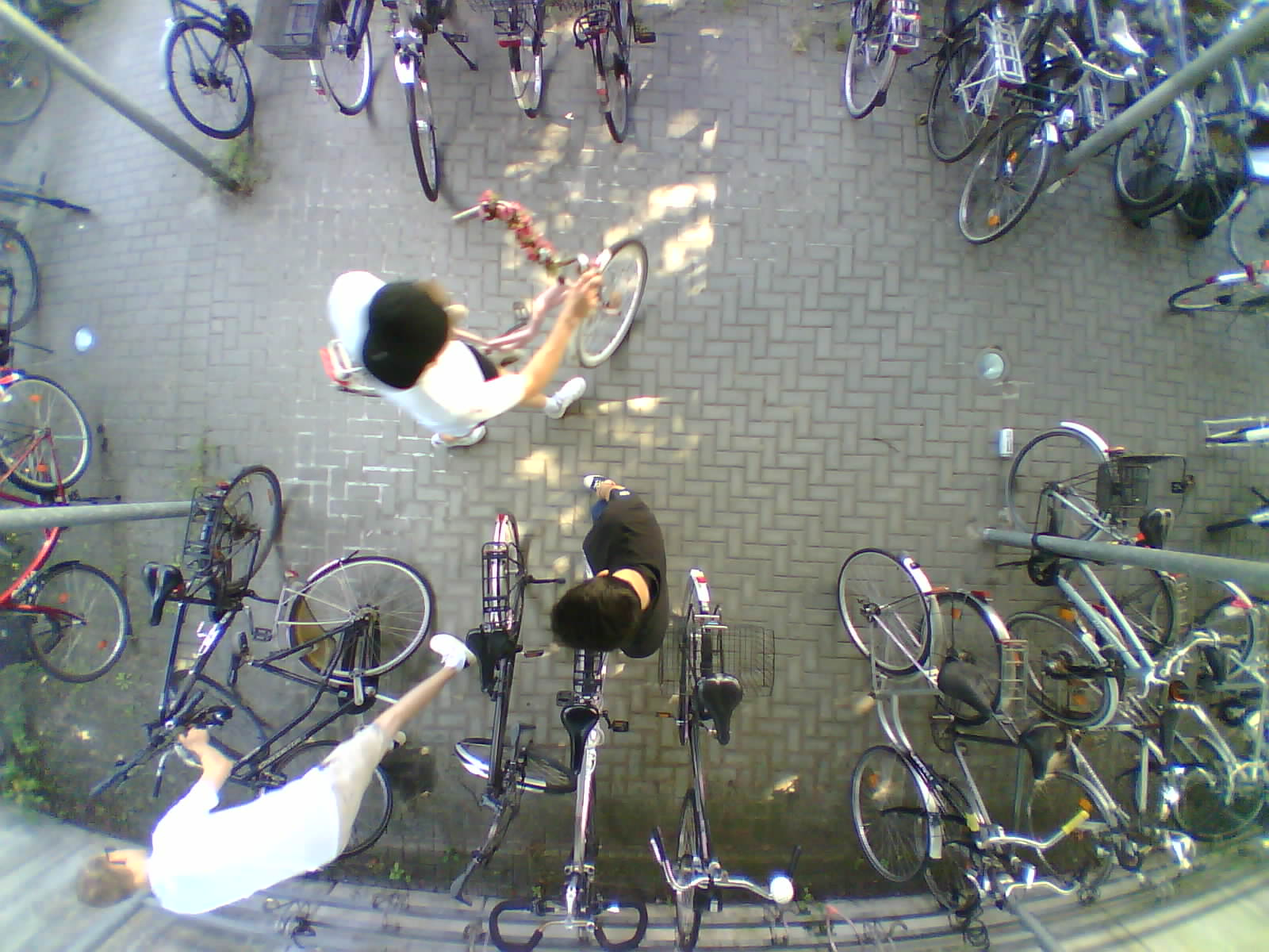bicylce: (249, 554, 436, 843), (326, 234, 647, 391), (999, 409, 1158, 724), (1083, 547, 1256, 832), (834, 543, 961, 875), (1033, 588, 1152, 908), (145, 474, 269, 781), (0, 370, 111, 688), (658, 571, 749, 952), (929, 587, 1015, 914), (470, 513, 543, 886), (963, 0, 1072, 247), (555, 572, 622, 947)
saddle: (698, 670, 746, 748), (935, 658, 993, 719), (1019, 718, 1066, 780), (466, 630, 512, 693), (144, 561, 186, 626), (560, 704, 598, 772), (1106, 11, 1150, 61), (1140, 501, 1179, 556), (221, 624, 253, 689), (1153, 697, 1184, 760), (1204, 638, 1228, 685), (1246, 79, 1269, 119)
